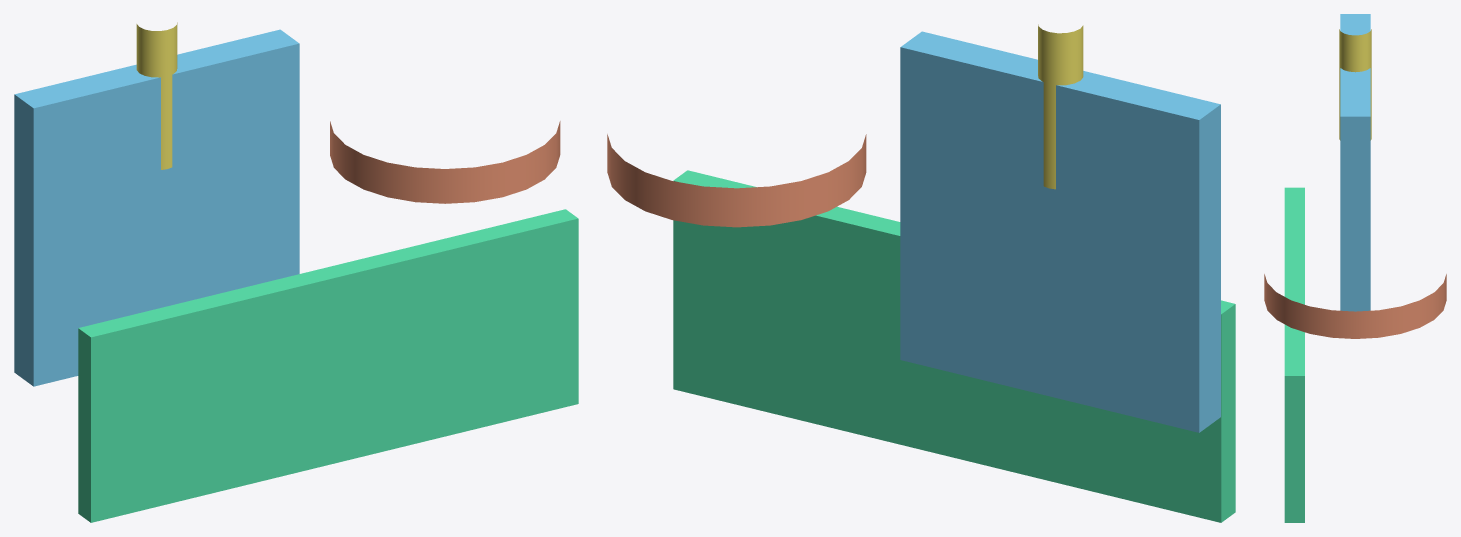
Rendered from digital_image_processing.glb.
3 views of the same model, side by side, from view 1: azimuth 30°, elevation 25°; view 2: azimuth 150°, elevation 25°; view 3: azimuth 270°, elevation 25° (orthographic). The views are drawn at different scales.
Parts seen in each view (by area): view 1: HistogramCurveDisplay, SpatialFilterKernelGrid, SobelEdgeGradientCompass, ConvolutionSensorHead; view 2: SpatialFilterKernelGrid, HistogramCurveDisplay, SobelEdgeGradientCompass, ConvolutionSensorHead; view 3: SpatialFilterKernelGrid, HistogramCurveDisplay, SobelEdgeGradientCompass, ConvolutionSensorHead.
Part boxes in pixels (x1=…): HistogramCurveDisplay: x1=78, y1=209, x2=578, y2=522; SpatialFilterKernelGrid: x1=14, y1=29, x2=299, y2=386; SobelEdgeGradientCompass: x1=330, y1=121, x2=560, y2=203; ConvolutionSensorHead: x1=136, y1=22, x2=177, y2=169; SpatialFilterKernelGrid: x1=900, y1=31, x2=1220, y2=432; HistogramCurveDisplay: x1=673, y1=170, x2=1235, y2=522; SobelEdgeGradientCompass: x1=607, y1=134, x2=866, y2=227; ConvolutionSensorHead: x1=1038, y1=24, x2=1083, y2=189; SpatialFilterKernelGrid: x1=1340, y1=14, x2=1370, y2=311; HistogramCurveDisplay: x1=1284, y1=187, x2=1304, y2=522; SobelEdgeGradientCompass: x1=1264, y1=274, x2=1446, y2=338; ConvolutionSensorHead: x1=1339, y1=29, x2=1371, y2=140.
Bounding box in the file's own units: 2.35 × 1.9 × 0.9.
